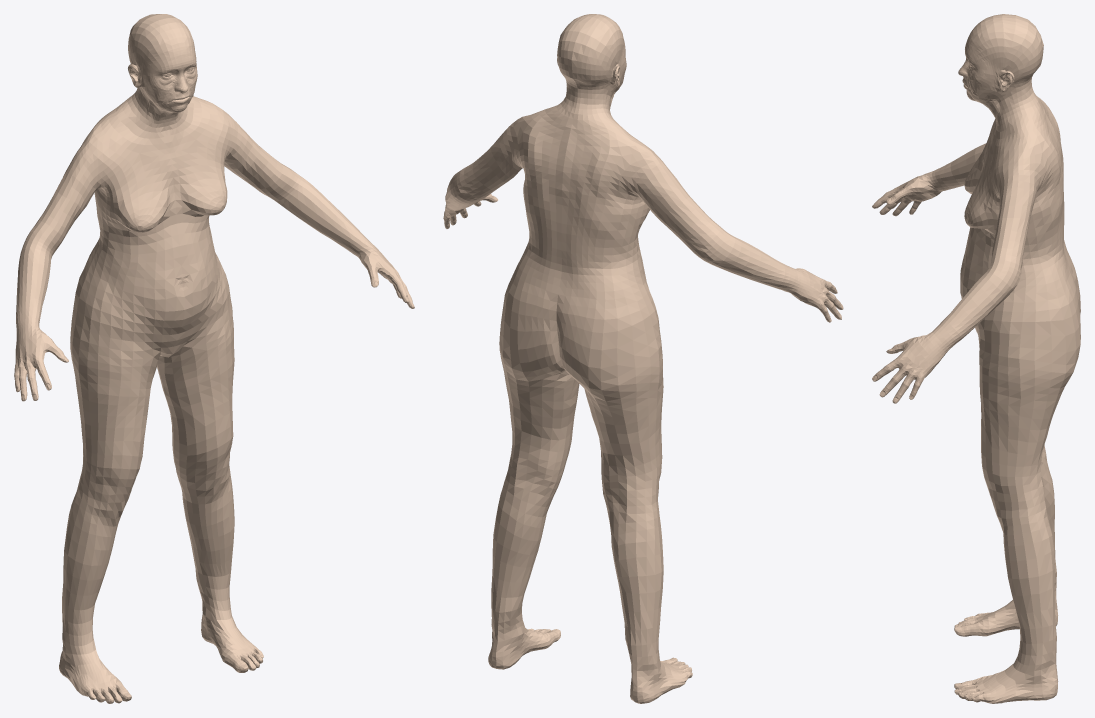
The model's file is female-elder-heavy-low.glb.
The picture shows the model from 3 angles, left to right: view 1: azimuth 30°, elevation 25°; view 2: azimuth 150°, elevation 25°; view 3: azimuth 270°, elevation 25°; orthographic projection.
Visible parts, largest first — view 1: world; view 2: world; view 3: world.
Boxes of the visible parts, left/top/right/bottom form: world: left=14, top=14, right=414, bottom=703; world: left=443, top=14, right=843, bottom=703; world: left=872, top=14, right=1080, bottom=703.
Size of the model in its own units: 1.13 by 1.8 by 0.5267.
